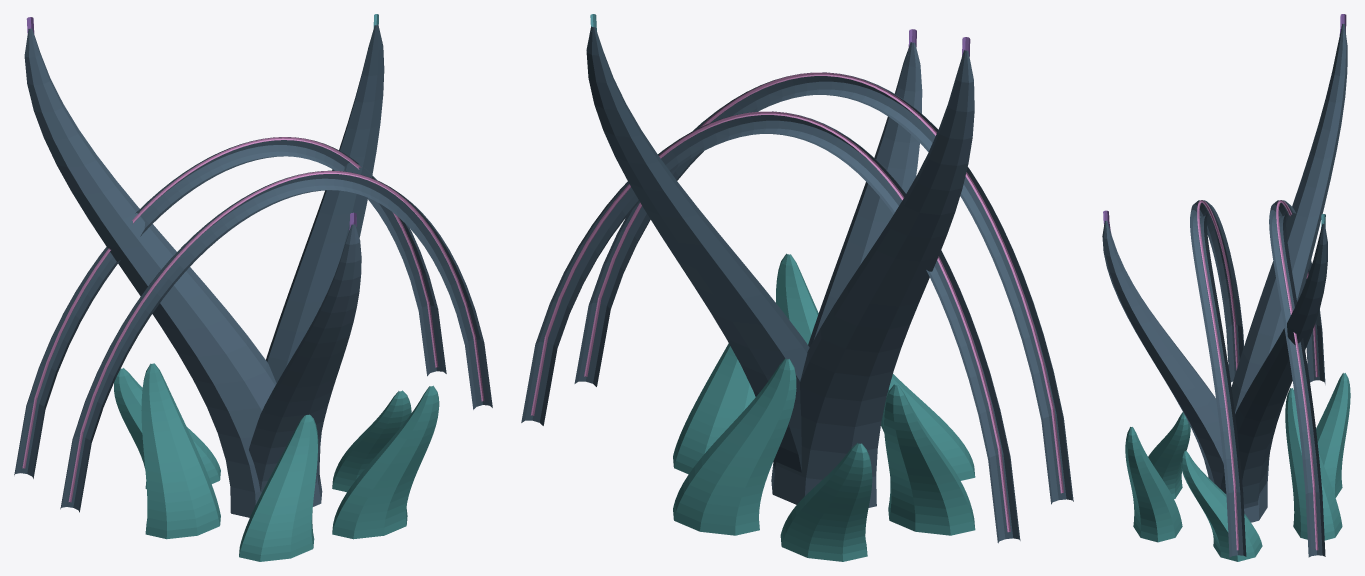
The model's file is hexcore_elven_sanctuary_01.glb.
The picture shows the model from 3 angles, left to right: view 1: azimuth 30°, elevation 25°; view 2: azimuth 150°, elevation 25°; view 3: azimuth 270°, elevation 25°; orthographic projection. The views are drawn at different scales.
Visible parts, largest first — view 1: world; view 2: world; view 3: world.
Boxes of the visible parts, x1=… form: world: x1=14, y1=14, x2=492, y2=561; world: x1=521, y1=14, x2=1073, y2=561; world: x1=1102, y1=14, x2=1350, y2=561.
Size of the model in its own units: 32.21 by 34.71 by 18.81.
